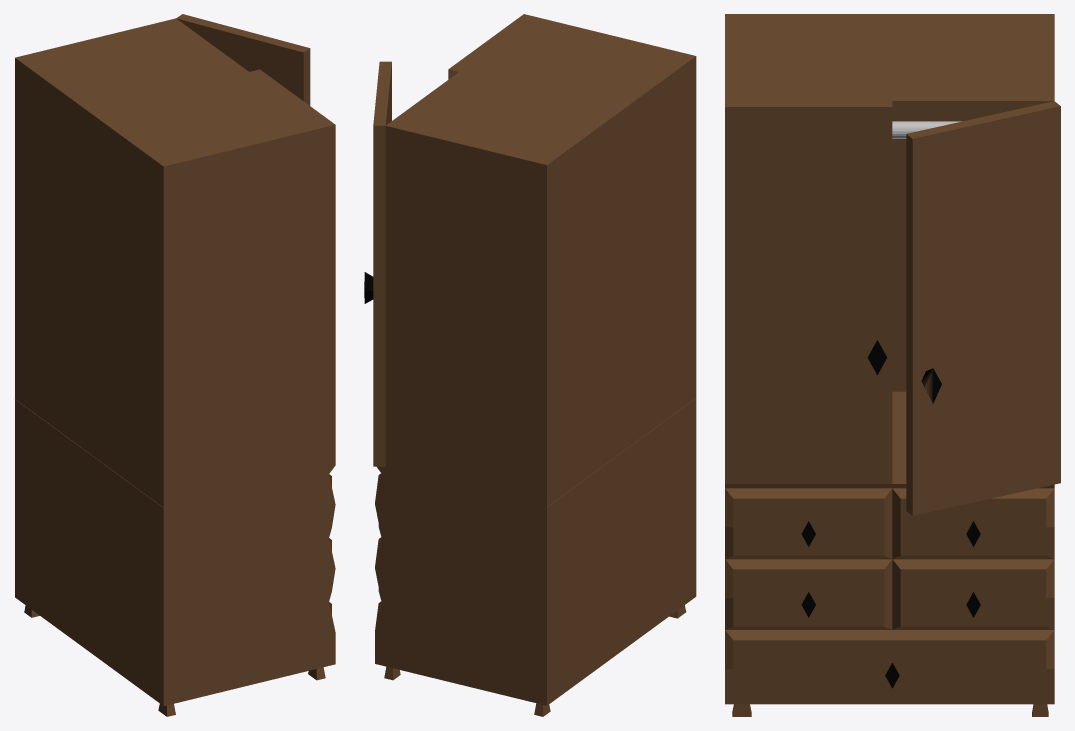
The model's file is Wardrobe.fbx.
The picture shows the model from 3 angles, left to right: view 1: azimuth 30°, elevation 25°; view 2: azimuth 150°, elevation 25°; view 3: azimuth 270°, elevation 25°; orthographic projection. The views are drawn at different scales.
Parts seen in each view (by area): view 1: Cube; view 2: Cube; view 3: Cube, Cylinder.
Boxes of the visible parts, x1=… form: Cube: x1=15, y1=14, x2=335, y2=716; Cube: x1=364, y1=14, x2=696, y2=716; Cube: x1=725, y1=14, x2=1060, y2=716; Cylinder: x1=892, y1=121, x2=961, y2=138.
Bounding box in the file's own units: 280 × 616 × 306.
